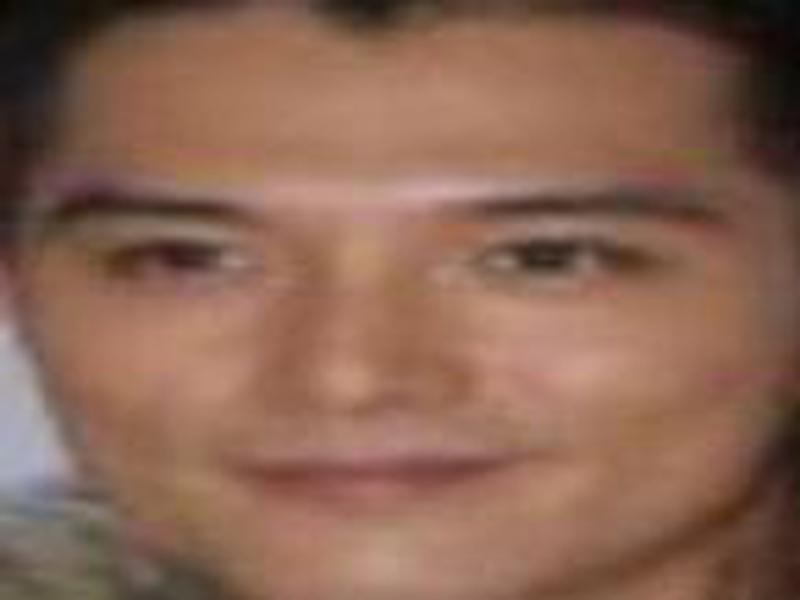without_mask: (27, 19, 772, 600)
